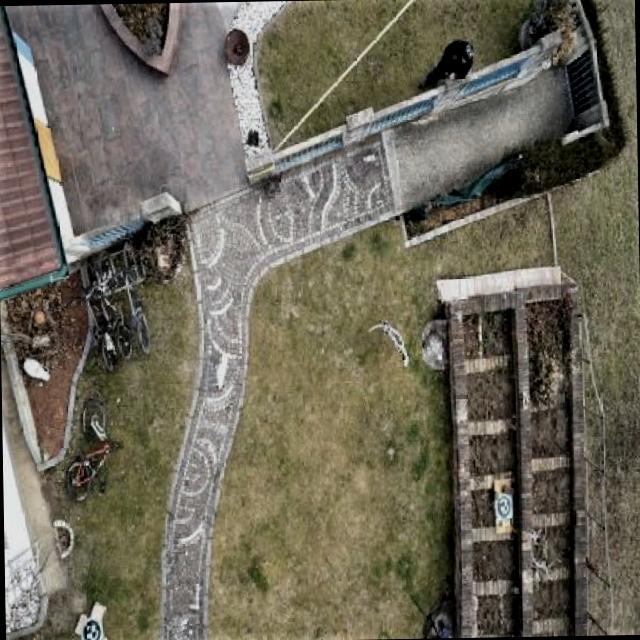Person: (404, 32, 488, 99)
